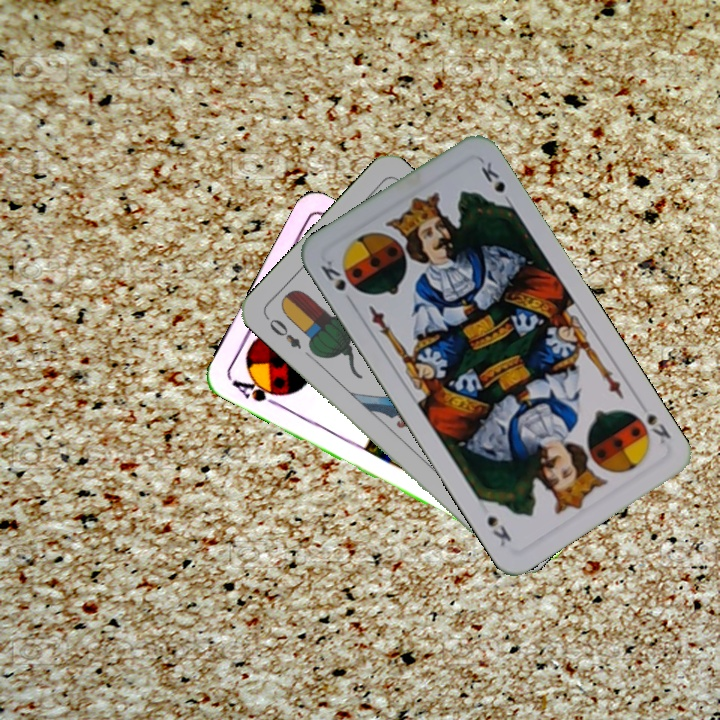EO: (261, 312, 304, 352)
SA: (227, 372, 286, 409)
SK: (316, 256, 357, 308), (642, 408, 674, 451)
